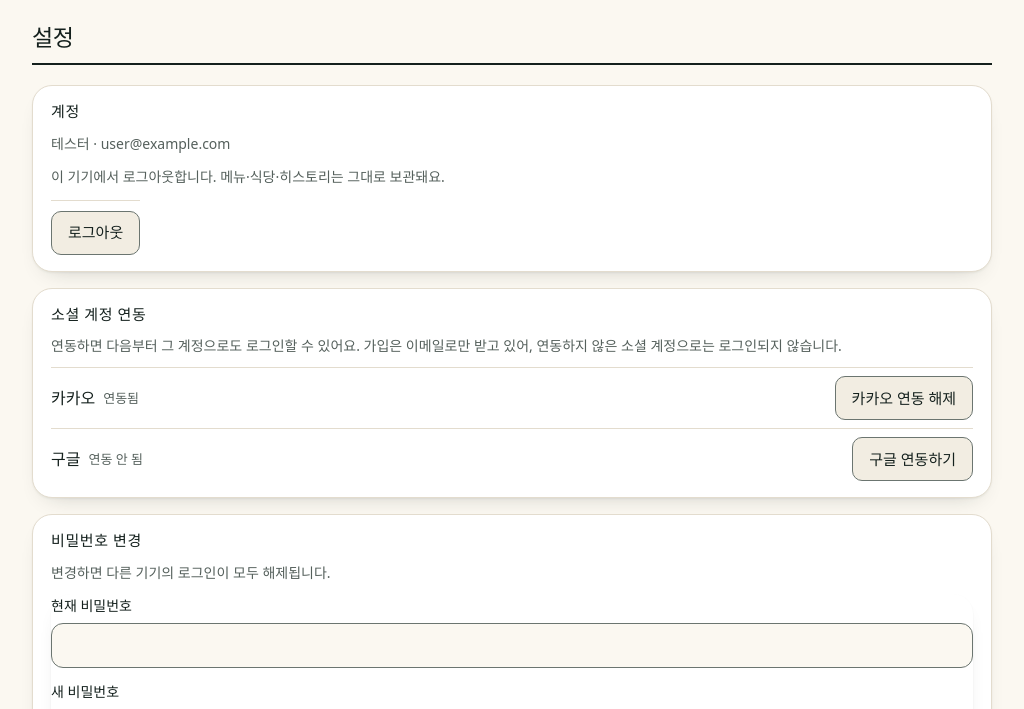
Test case: SettingsPage 소셜 계정 연동 › 해제가 거절되면 서버가 준 사유를 보여준다
Click the button "카카오 연동 해제" at x=904, y=398, box [835,376,973,420]
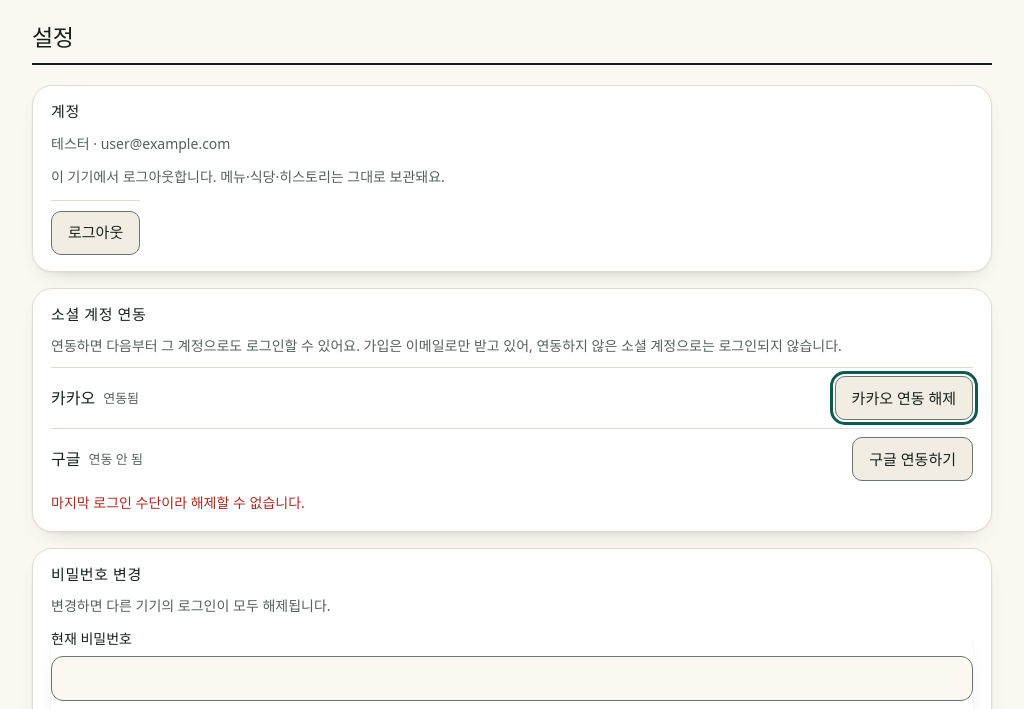
Expected: the text "마지막 로그인 수단이라 해제할 수 없습니다." is shown, [51,491,305,514]
